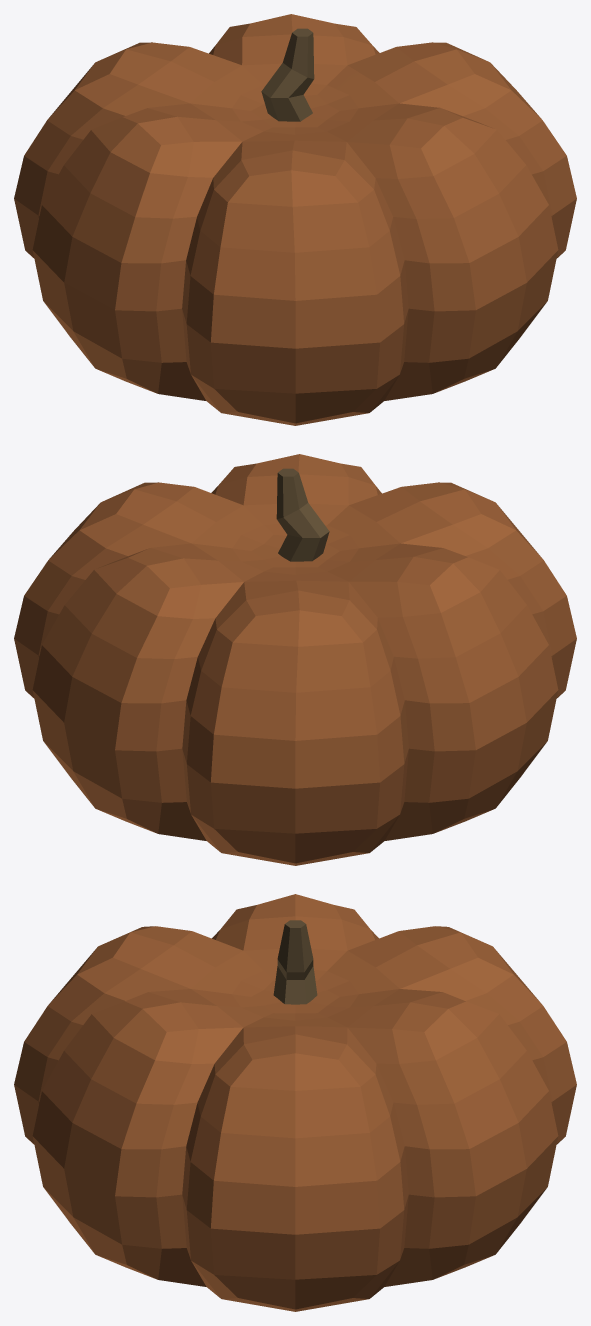
File: food-Pumpkin.glb
The picture shows the model from 3 angles, top to bottom: view 1: azimuth 30°, elevation 25°; view 2: azimuth 150°, elevation 25°; view 3: azimuth 270°, elevation 25°; orthographic projection.
Parts seen in each view (by area): view 1: Pumpkin; view 2: Pumpkin; view 3: Pumpkin.
Part boxes in pixels (x1,y1,x2,y2): Pumpkin: (14,14,576,425); Pumpkin: (14,454,576,865); Pumpkin: (14,894,576,1311).
Bounding box in the file's own units: 1.5 × 0.9309 × 1.51.
